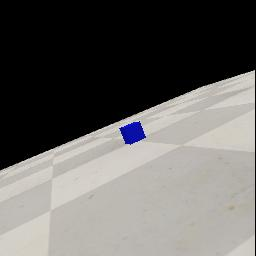box: (119, 121, 146, 145)
